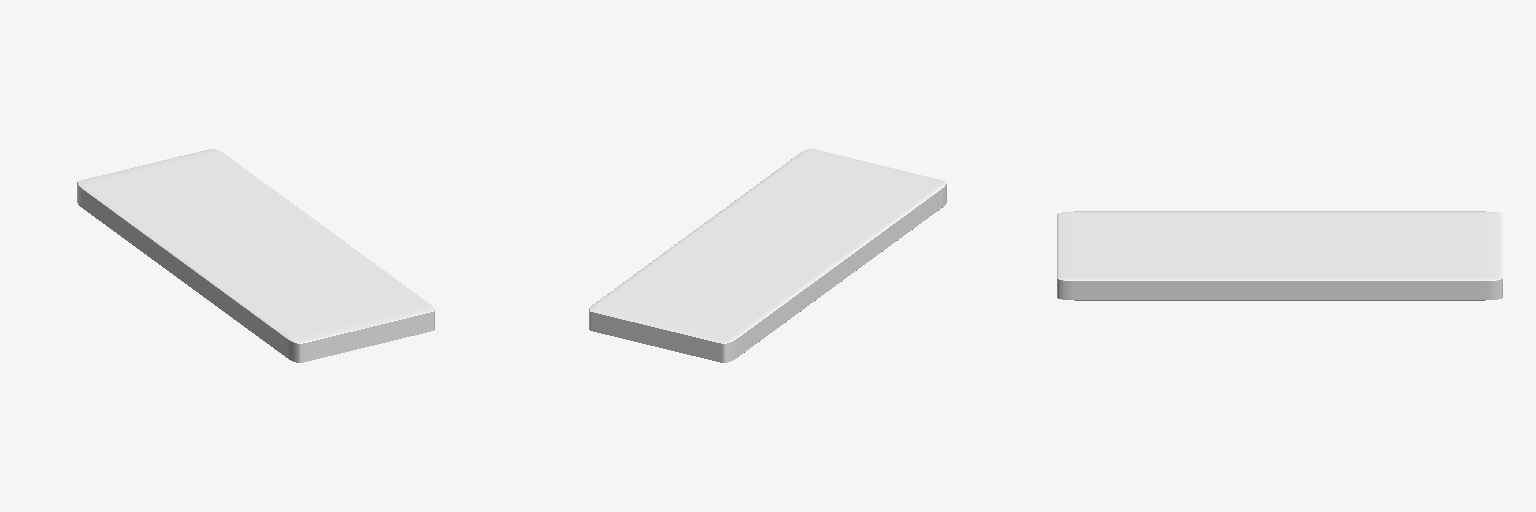
File: Kutsov2.obj
The picture shows the model from 3 angles: view 1: azimuth 30°, elevation 25°; view 2: azimuth 150°, elevation 25°; view 3: azimuth 270°, elevation 25°; orthographic projection.
Parts seen in each view (by area): view 1: 000_Box_-_baked; view 2: 000_Box_-_baked; view 3: 000_Box_-_baked.
Part boxes in pixels (x1,y1,x2,y2): 000_Box_-_baked: (77,149,434,362); 000_Box_-_baked: (589,149,946,362); 000_Box_-_baked: (1057,211,1502,300).
Size of the model in its own units: 7.2 by 1 by 19.43.